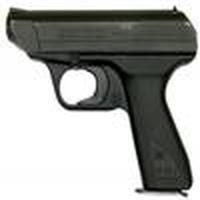gun: (5, 5, 196, 190)
